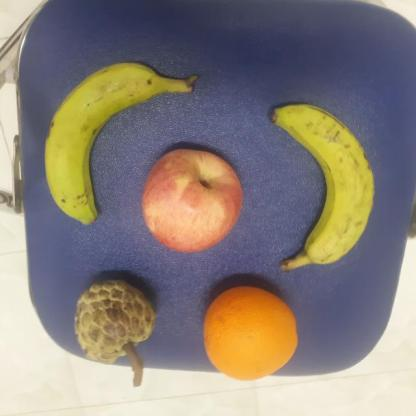annona: (72, 278, 157, 364)
apple: (139, 144, 248, 256)
banana: (45, 60, 199, 225), (273, 96, 378, 274)
orange: (202, 277, 296, 381)
